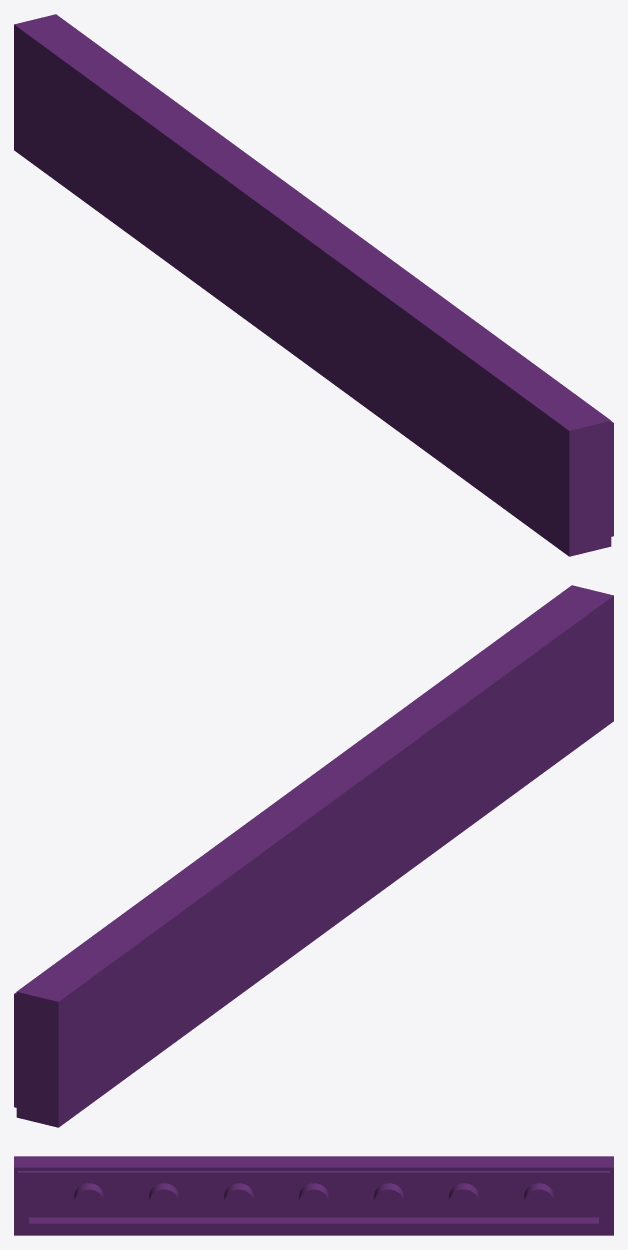
Rendered from tile1*8_medium_lavender.obj.
3 views of the same model, one above another, from view 1: azimuth 30°, elevation 25°; view 2: azimuth 150°, elevation 25°; view 3: azimuth 270°, elevation 25° (orthographic). The views are drawn at different scales.
Bounding box in the file's own units: 8 × 20 × 160.
